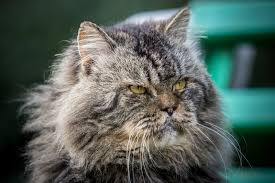Gato: (44, 4, 228, 181)
